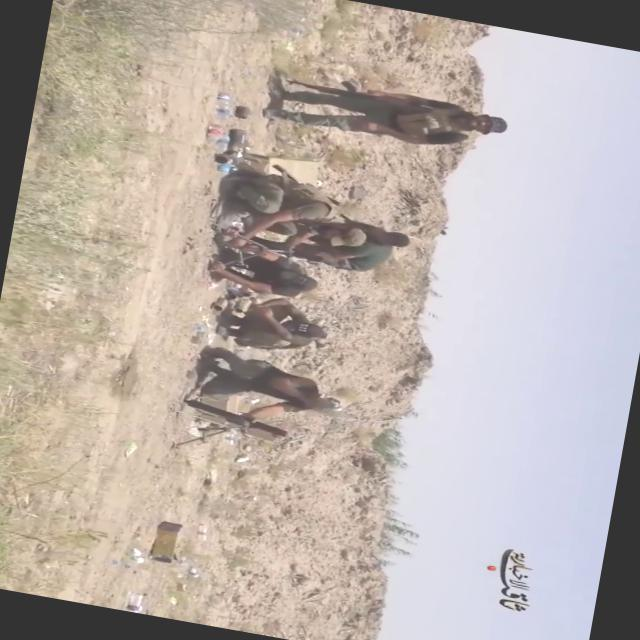long weapon: (270, 68, 396, 109)
